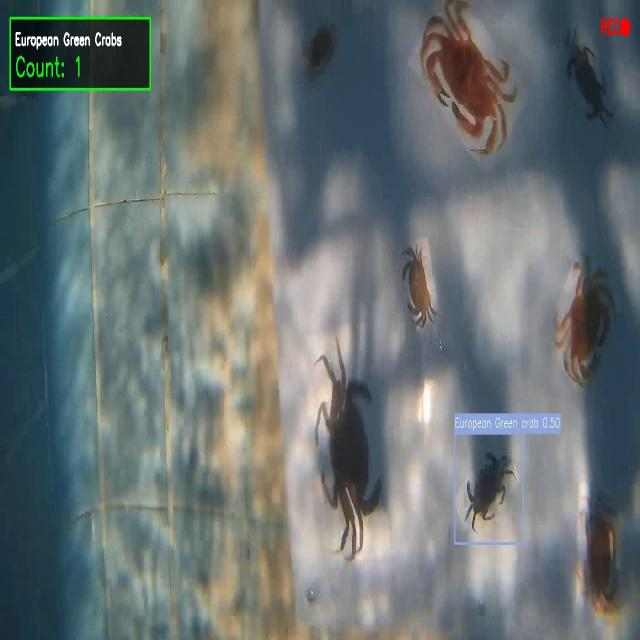European_Green_Crab: (299, 314, 394, 578), (552, 18, 620, 140), (458, 437, 521, 543)
